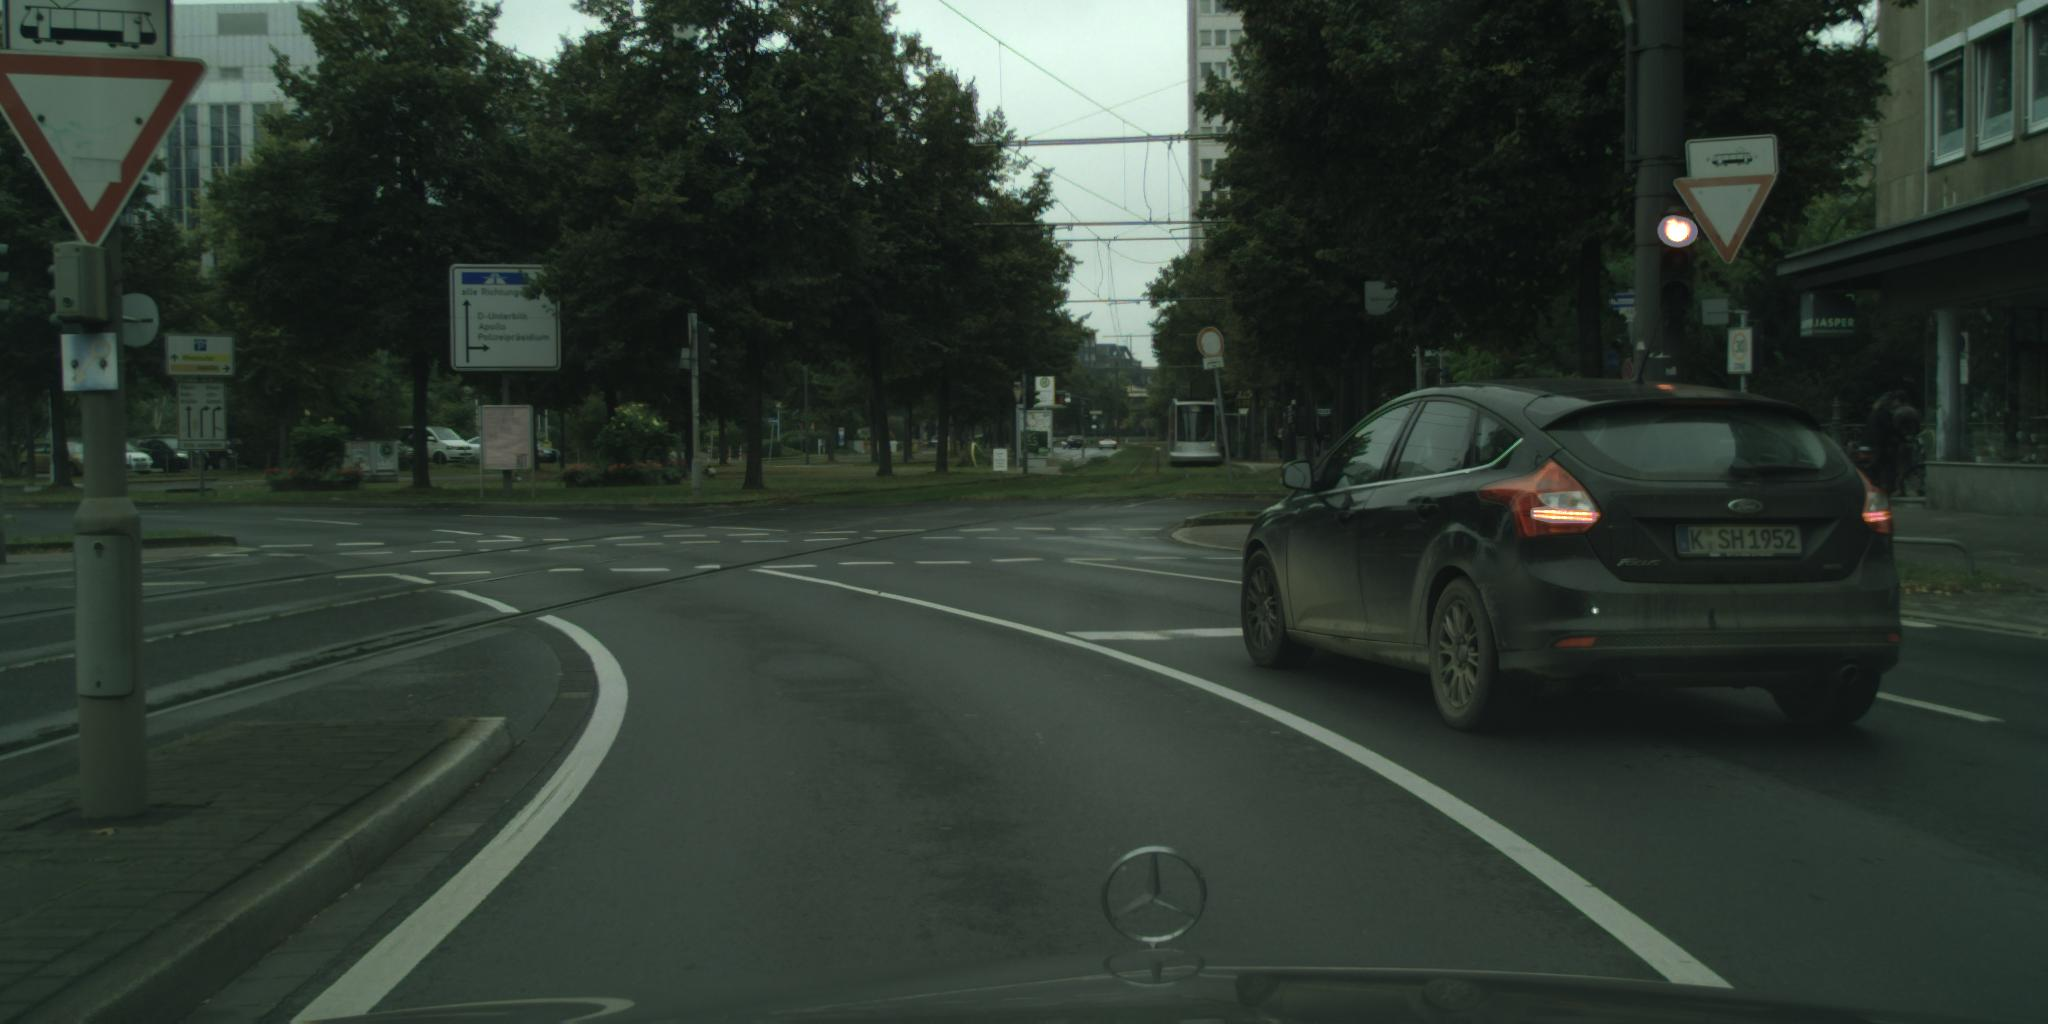bicycle: (1899, 432, 1928, 504)
car: (1241, 379, 1904, 737), (388, 426, 475, 468), (124, 438, 206, 475), (14, 441, 89, 481), (119, 440, 154, 475), (392, 443, 417, 473), (465, 438, 486, 468), (1098, 440, 1118, 451)
train: (1166, 398, 1226, 468)
